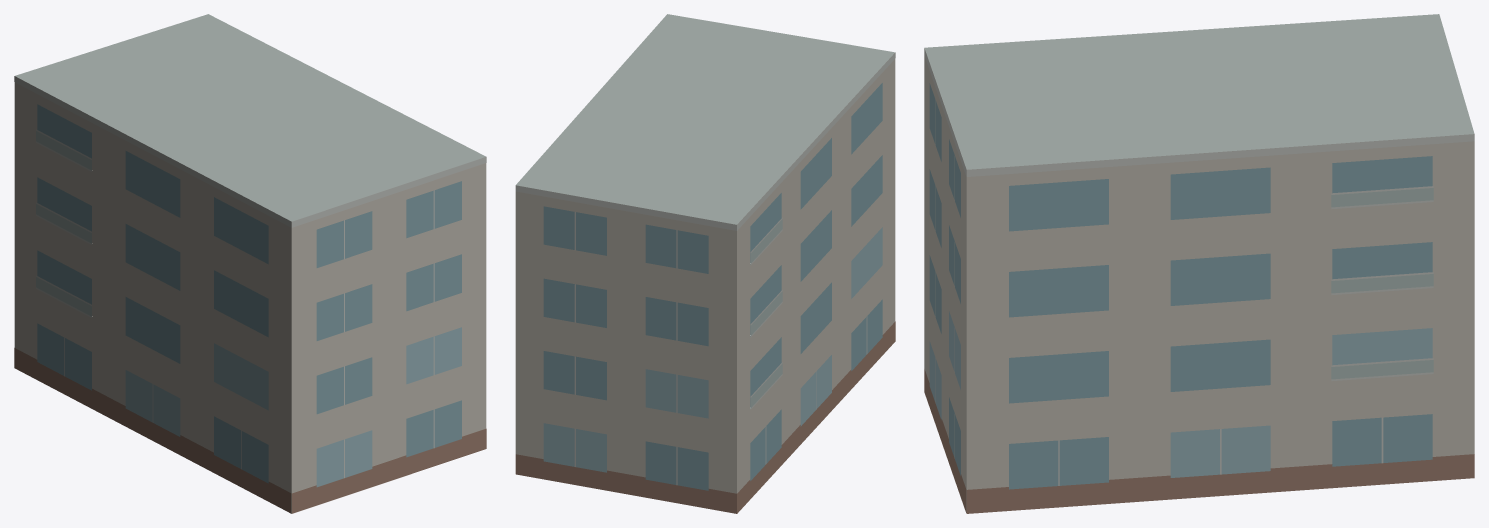
File: survey-upis-32752582.glb
3 views of the same model, side by side, from view 1: azimuth 30°, elevation 25°; view 2: azimuth 150°, elevation 25°; view 3: azimuth 270°, elevation 25° (orthographic). The views are drawn at different scales.
Parts seen in each view (by area): view 1: survey-upis-32752582.tmp; view 2: survey-upis-32752582.tmp; view 3: survey-upis-32752582.tmp.
Part boxes in pixels (x1,y1,x2,y2): survey-upis-32752582.tmp: [14, 14, 486, 513]; survey-upis-32752582.tmp: [515, 14, 895, 513]; survey-upis-32752582.tmp: [924, 14, 1474, 513].
Size of the model in its own units: 11.18 by 11.5 by 16.68.
